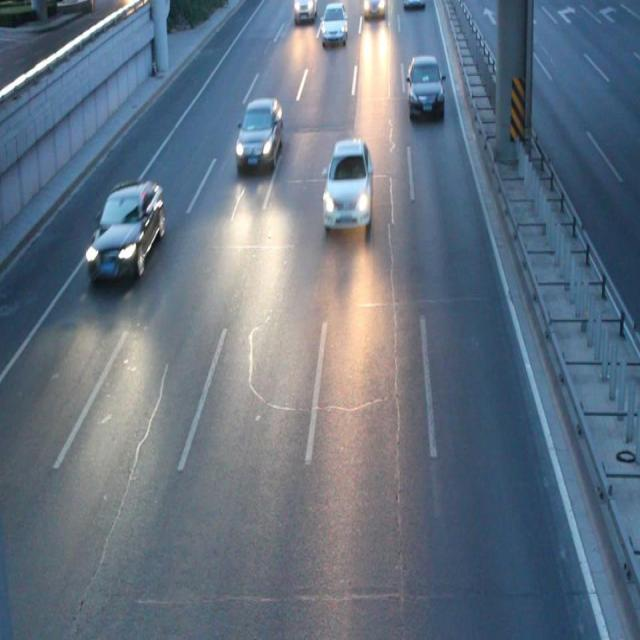car: (85, 178, 165, 280), (322, 138, 373, 231), (235, 98, 283, 172), (406, 54, 444, 118), (320, 1, 347, 43)
truck: (293, 1, 316, 20)
